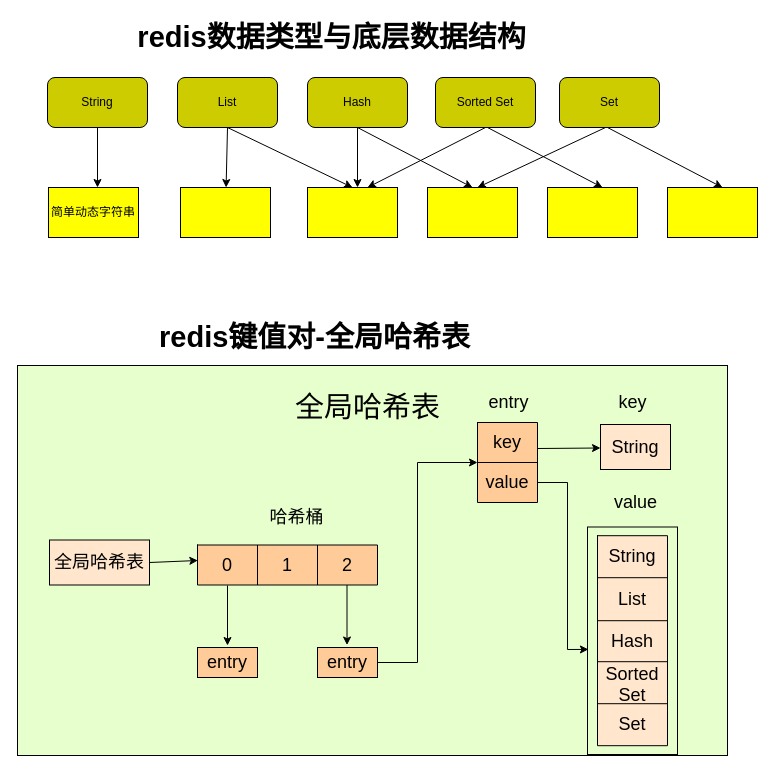
This 775x773 diagram has some shape labels left out. Each missing label, with the box of its shape:
压缩列表: (306, 186, 398, 238)
双向链表: (180, 186, 270, 238)
哈希表: (426, 186, 518, 238)
数组: (666, 186, 758, 238)
跳表: (546, 186, 638, 238)
